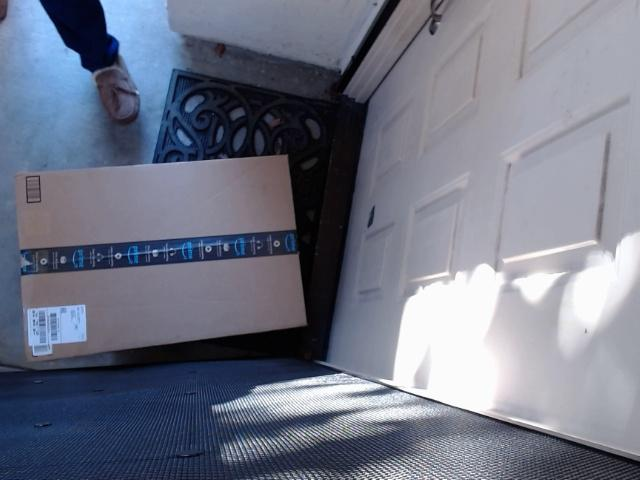box: (6, 145, 346, 364)
